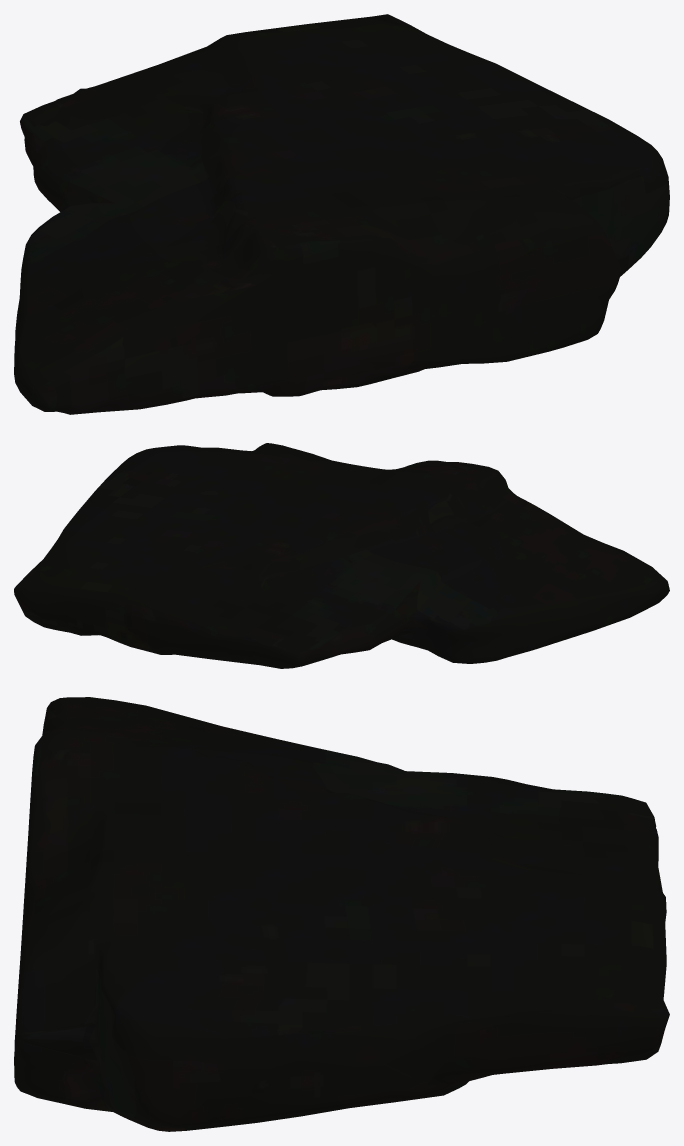
The picture shows the model from 3 angles, top to bottom: view 1: azimuth 30°, elevation 25°; view 2: azimuth 150°, elevation 25°; view 3: azimuth 270°, elevation 25°; orthographic projection. The views are drawn at different scales.
Parts seen in each view (by area): view 1: SM_BM_Clifftop_02_LOD0; view 2: SM_BM_Clifftop_02_LOD0; view 3: SM_BM_Clifftop_02_LOD0.
Part boxes in pixels (x1=…): SM_BM_Clifftop_02_LOD0: x1=14, y1=14, x2=669, y2=414; SM_BM_Clifftop_02_LOD0: x1=14, y1=443, x2=669, y2=668; SM_BM_Clifftop_02_LOD0: x1=14, y1=697, x2=669, y2=1131.
Bounding box in the file's own units: 5.42 × 1.32 × 3.91.
Materials: 1 (1 with a texture image).
